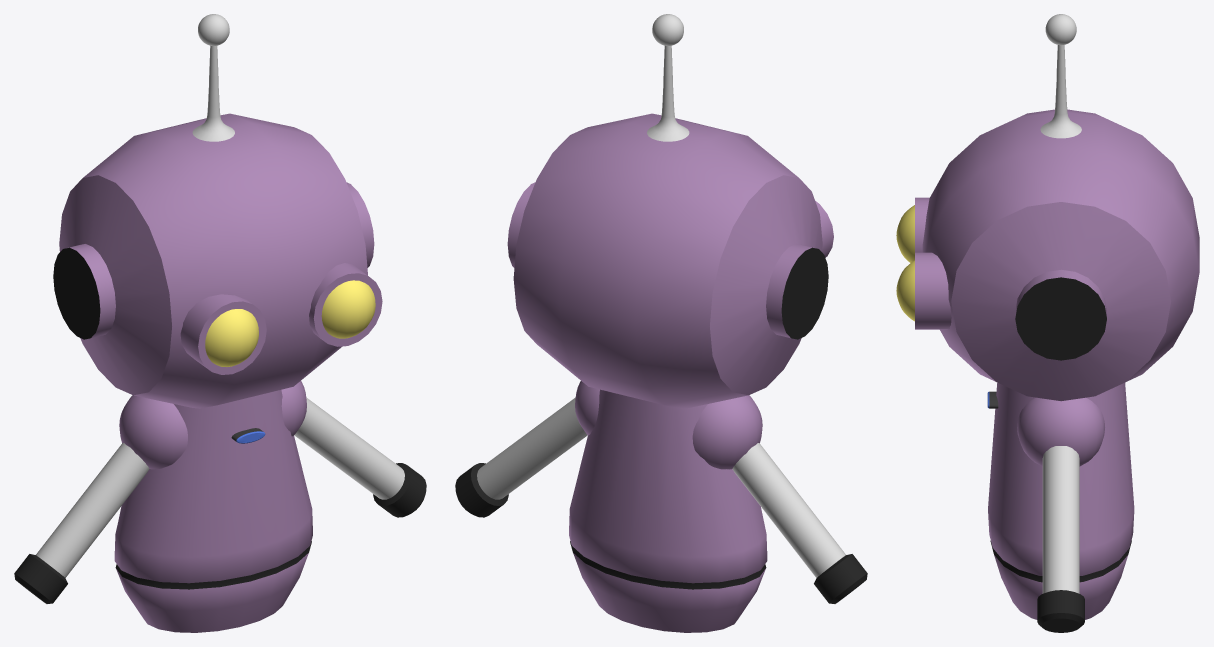
Rendered from PurpleBot.fbx.
The picture shows the model from 3 angles, left to right: view 1: azimuth 30°, elevation 25°; view 2: azimuth 150°, elevation 25°; view 3: azimuth 270°, elevation 25°; orthographic projection. The views are drawn at different scales.
Parts seen in each view (by area): view 1: pCylinder1, pCylinder3, pCylinder4, pCylinder5, pCylinder2, pSphere4, pCylinder7, pSphere2, pSphere1, pCylinder8, pCylinder6, pSphere3 (+1 smaller); view 2: pCylinder1, pCylinder3, pCylinder4, pCylinder5, pCylinder2, pSphere4, pCylinder6, pSphere3, pSphere5; view 3: pCylinder1, pCylinder3, pCylinder5, pCylinder2, pSphere3, pCylinder8, pCylinder6, pSphere2, pSphere1, pSphere5, pCylinder7.
Part boxes in pixels (x1,y1,x2,y2): pCylinder1: (59,113,367,408); pCylinder3: (114,390,312,632); pCylinder4: (14,443,149,603); pCylinder5: (294,397,426,517); pCylinder2: (53,182,374,339); pSphere4: (119,395,187,469); pCylinder7: (180,294,266,374); pSphere2: (321,280,375,338); pSphere1: (205,309,258,366); pCylinder8: (309,263,382,346); pCylinder6: (192,45,234,141); pSphere3: (281,381,306,436); pCylinder1: (513,113,822,408); pCylinder3: (569,389,767,632); pCylinder4: (732,443,867,603); pCylinder5: (455,397,587,517); pCylinder2: (507,182,828,339); pSphere4: (692,395,762,469); pCylinder6: (647,45,689,141); pSphere3: (575,381,599,435); pSphere5: (652,14,683,45); pCylinder1: (922,109,1199,401); pCylinder3: (988,382,1134,619); pCylinder5: (1037,446,1084,632); pCylinder2: (1015,269,1106,360); pSphere3: (1017,397,1104,466); pCylinder8: (915,252,951,329); pCylinder6: (1040,45,1081,138); pSphere2: (896,260,914,321); pSphere1: (896,205,914,262); pSphere5: (1045,14,1076,45); pCylinder7: (915,197,929,252).
Bounding box in the file's own units: 3.28 × 4.7 × 2.19.
